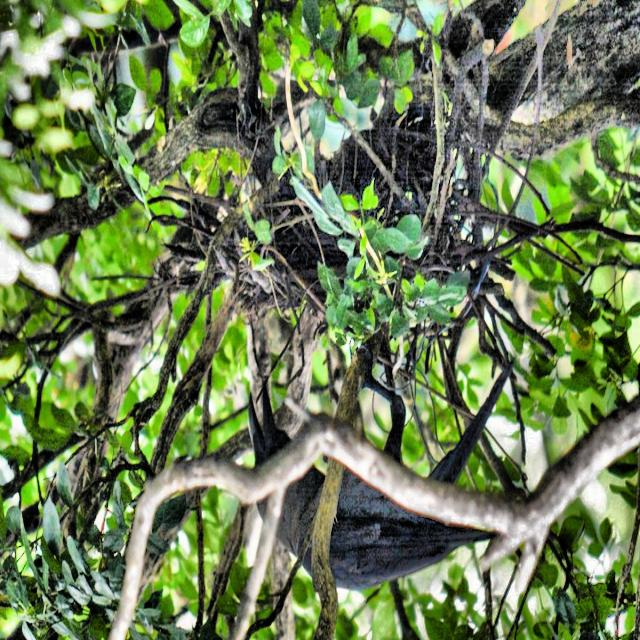crow: (223, 335, 543, 591)
